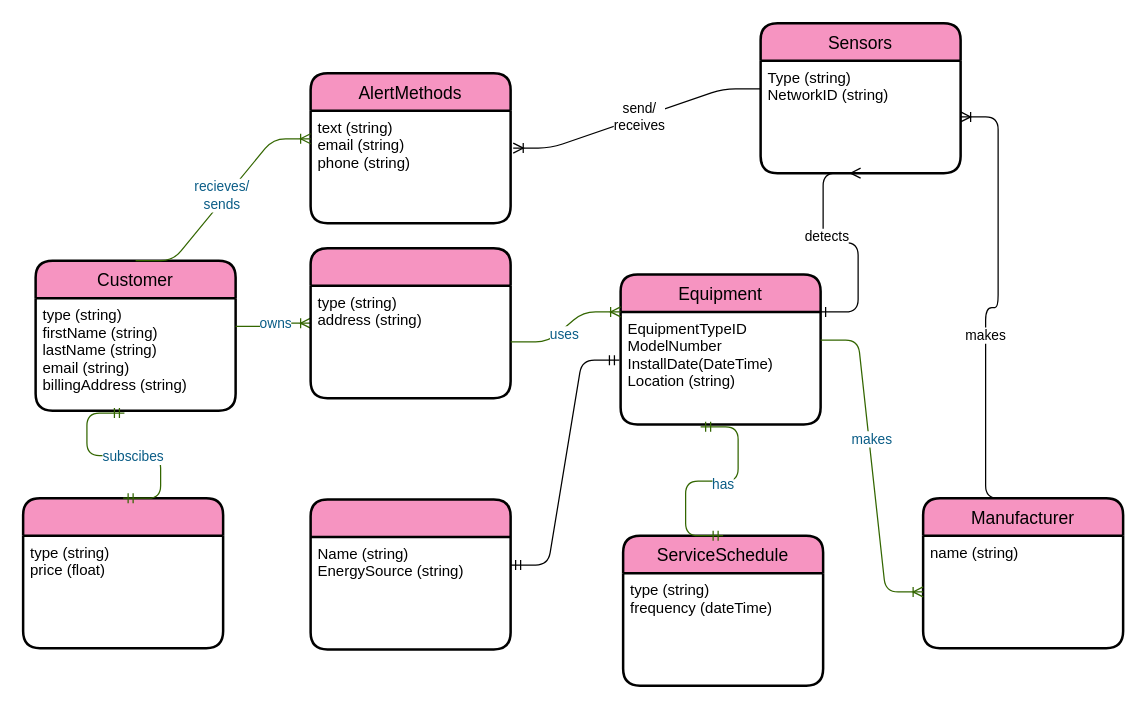
Image size: 1145x708. Some labels were removed from this diagram. Each missing label, with the box of its shape:
EquipmentTypes: (309, 498, 511, 650)
Property: (309, 246, 511, 399)
Subscription: (21, 496, 224, 649)
